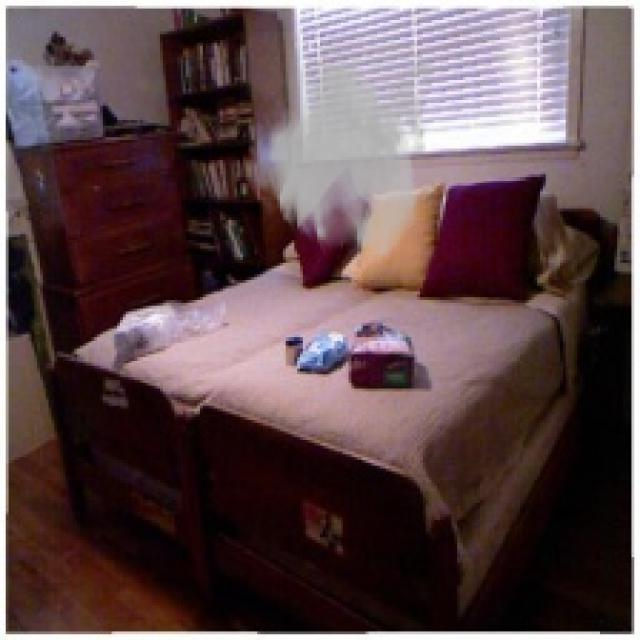Smoke: (240, 31, 440, 263)
